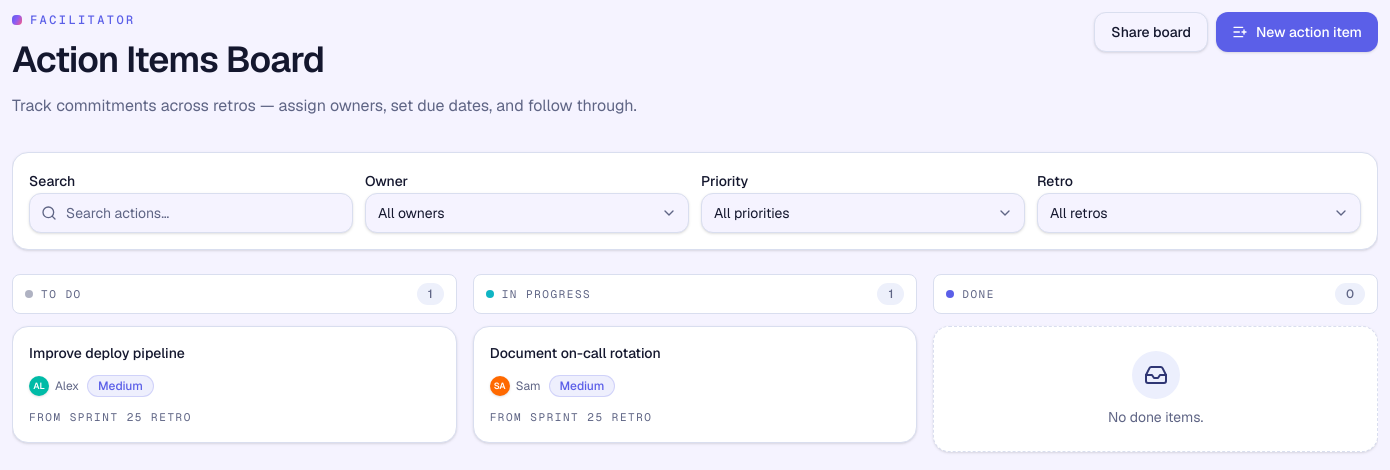
Test: ActionBoard filtering › filters items by the search query
Type "deploy" into the field with placeholder "Search actions…" at (191, 213), box [29,193,353,233]
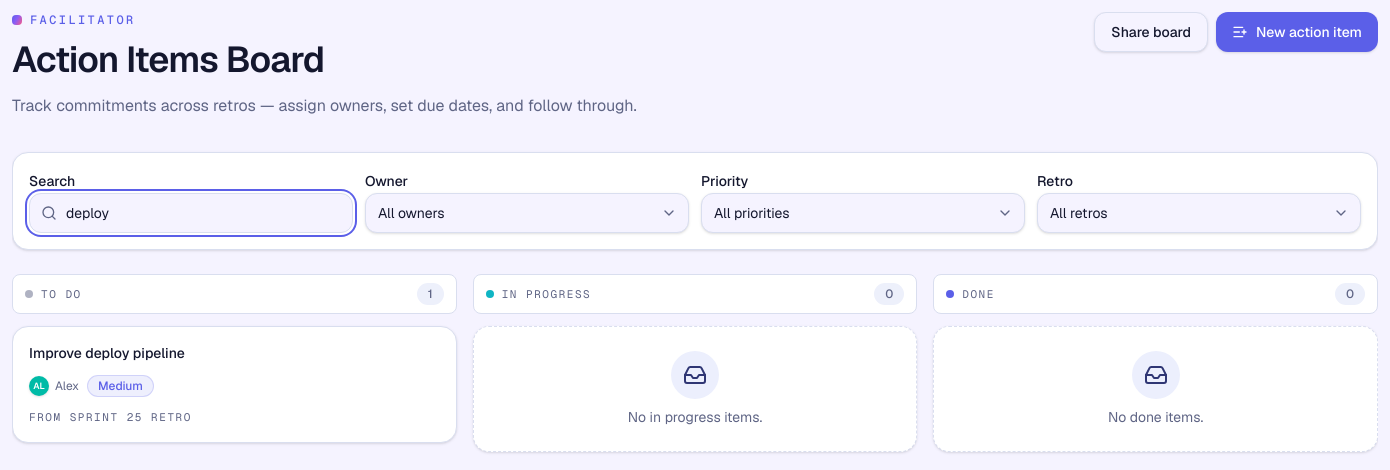
Check: the text "Improve deploy pipeline" is shown, box [29,343,185,363]
Check: the text "Document on-call rotation" is gone
